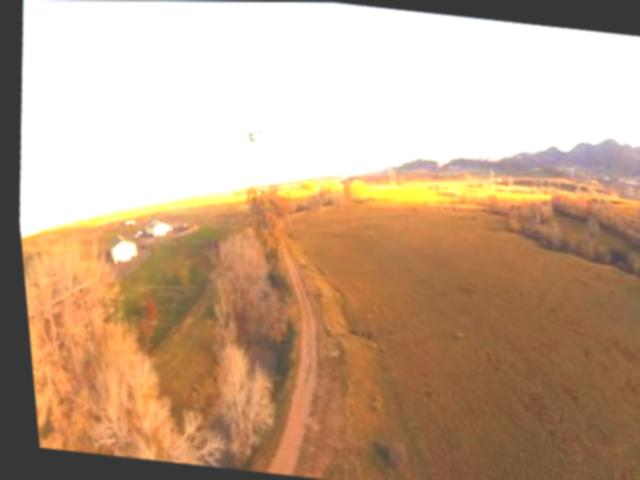uav: (216, 113, 283, 149)
